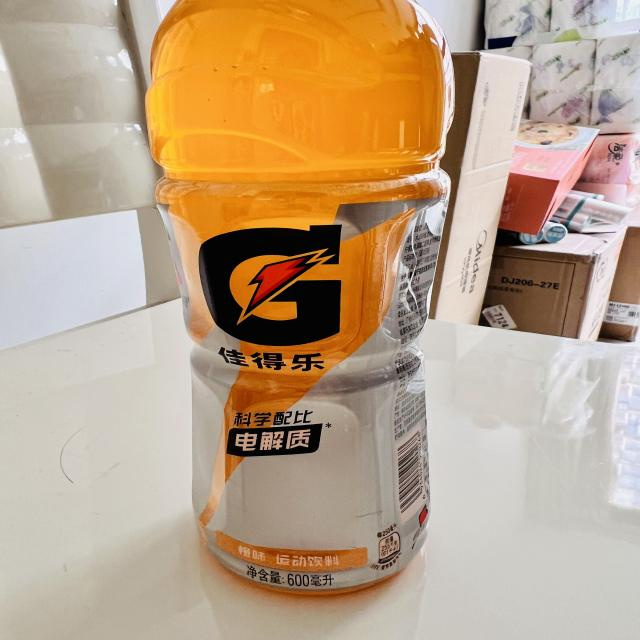bottle: (144, 0, 461, 600)
